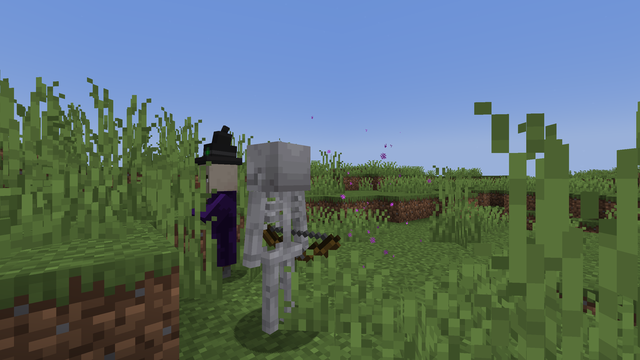sorcieres: (194, 158, 234, 283)
squelettes: (242, 141, 316, 349)
